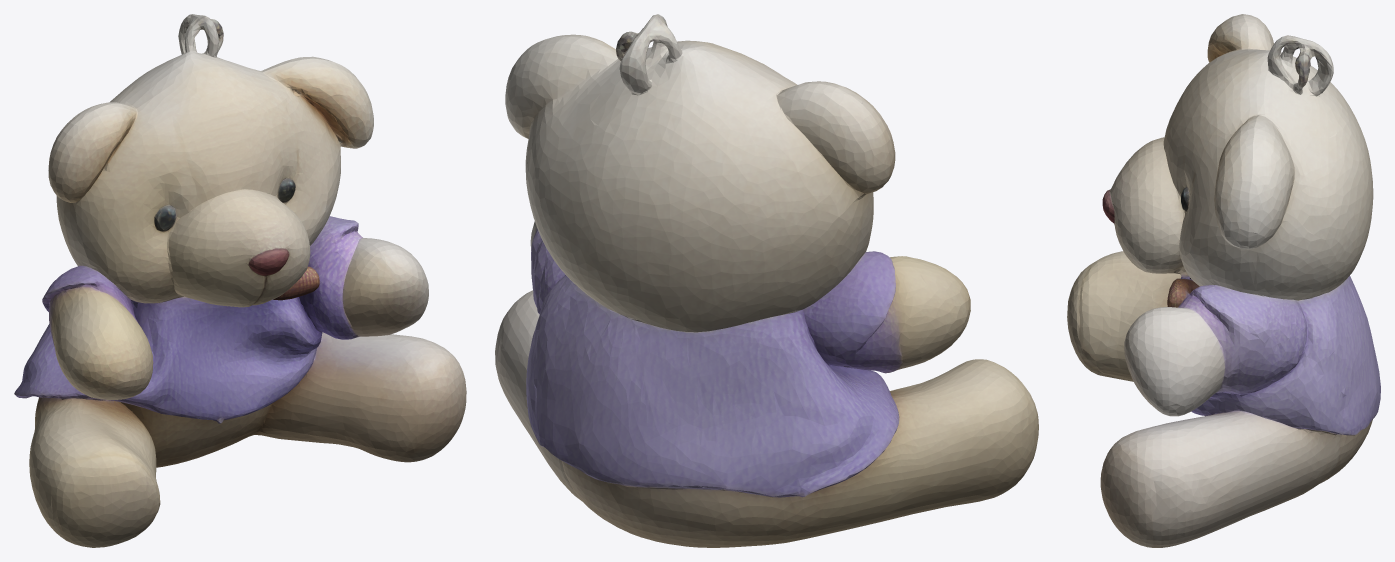
The picture shows the model from 3 angles, left to right: view 1: azimuth 30°, elevation 25°; view 2: azimuth 150°, elevation 25°; view 3: azimuth 270°, elevation 25°; orthographic projection. The views are drawn at different scales.
Visible parts, largest first — view 1: world; view 2: world; view 3: world.
Boxes of the visible parts, <box> form: world: <box>14,14,466,547</box>; world: <box>495,14,1038,547</box>; world: <box>1067,14,1380,547</box>.
Size of the model in its own units: 0.9993 by 0.9619 by 0.6182.
1 material, 1 textured.
